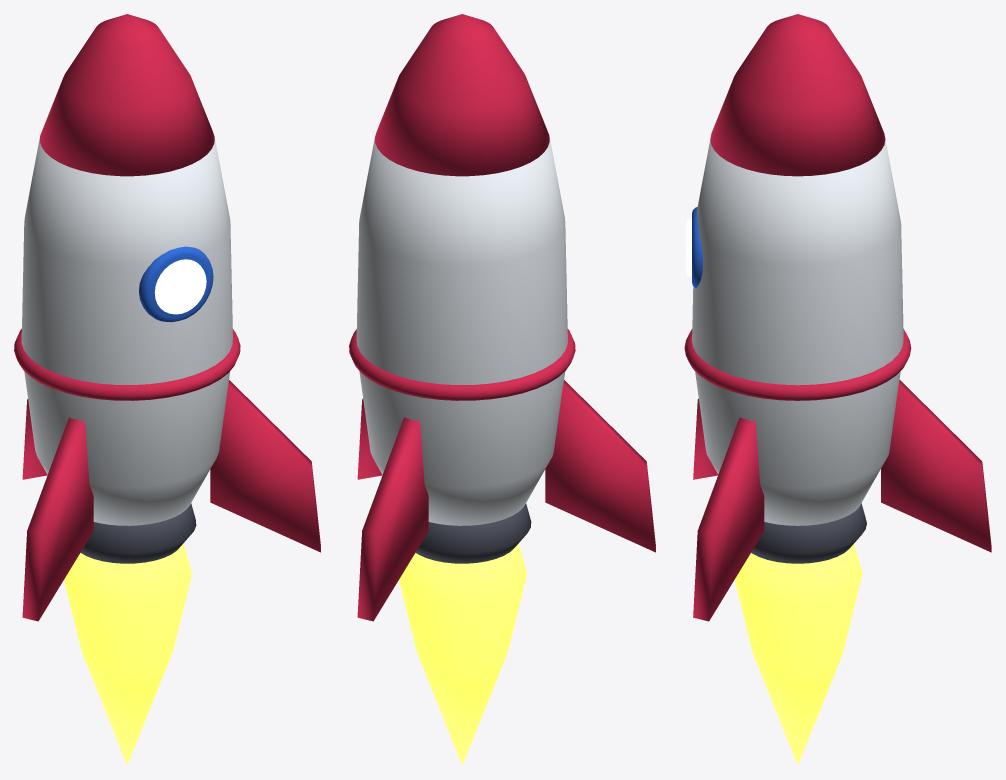
The model's file is casino_rocket.fbx.
3 views of the same model, side by side, from view 1: azimuth 30°, elevation 25°; view 2: azimuth 150°, elevation 25°; view 3: azimuth 270°, elevation 25° (orthographic).
Visible parts, largest first — view 1: casino_rocket; view 2: casino_rocket; view 3: casino_rocket.
Part boxes in pixels (left/top/right/bottom): casino_rocket: left=14, top=14, right=320, bottom=765; casino_rocket: left=349, top=14, right=655, bottom=765; casino_rocket: left=684, top=14, right=991, bottom=765.
Size of the model in its own units: 0.3737 by 0.9 by 0.333.
